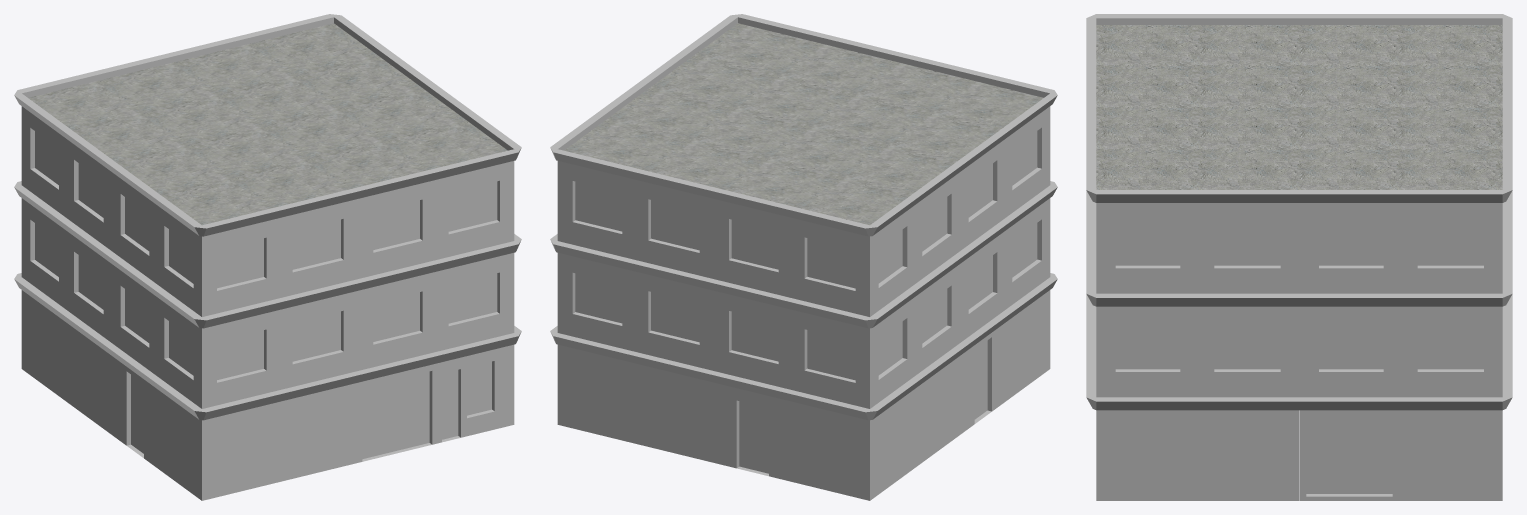
The model's file is Floor_Type_B014.fbx.
The picture shows the model from 3 angles, left to right: view 1: azimuth 30°, elevation 25°; view 2: azimuth 150°, elevation 25°; view 3: azimuth 270°, elevation 25°; orthographic projection. The views are drawn at different scales.
Visible parts, largest first — view 1: Floor_Type_B014; view 2: Floor_Type_B014; view 3: Floor_Type_B014.
Part boxes in pixels (x1,y1,x2,y2): Floor_Type_B014: [14, 14, 521, 500]; Floor_Type_B014: [550, 14, 1057, 500]; Floor_Type_B014: [1086, 14, 1512, 500].
Size of the model in its own units: 1074 by 864 by 1074.
